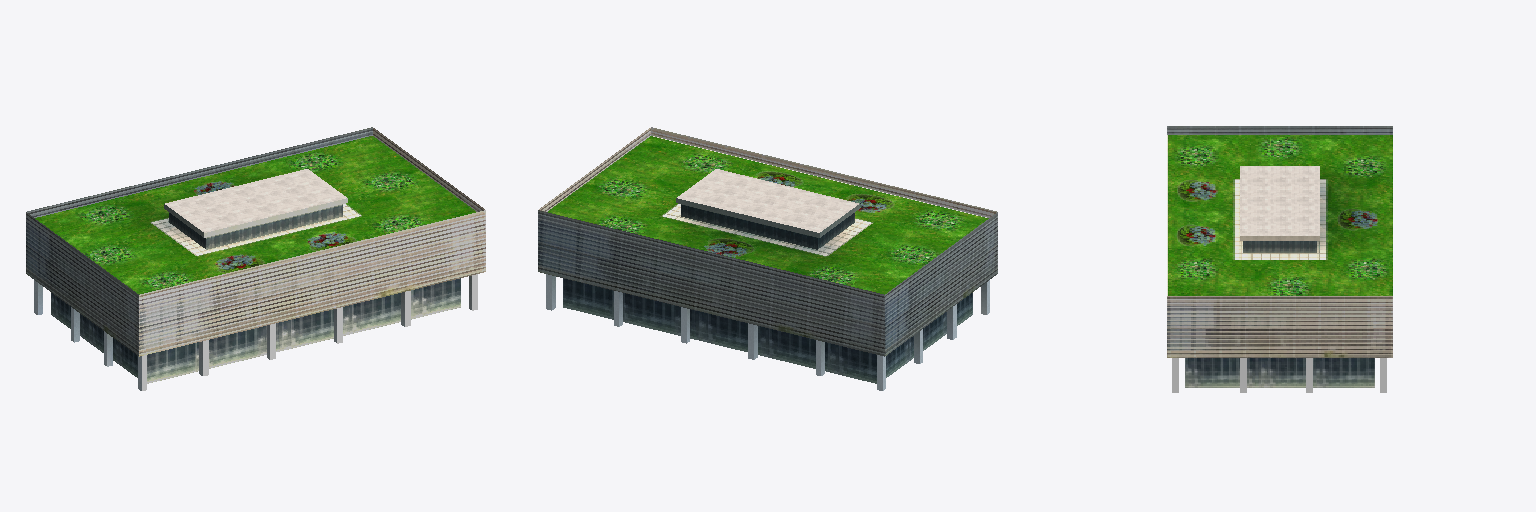
The picture shows the model from 3 angles: view 1: azimuth 30°, elevation 25°; view 2: azimuth 150°, elevation 25°; view 3: azimuth 270°, elevation 25°; orthographic projection.
Visible parts, largest first — view 1: 4D2; view 2: 4D2; view 3: 4D2.
Part boxes in pixels (x1,y1,x2,y2): 4D2: (26, 127, 485, 390); 4D2: (538, 127, 997, 390); 4D2: (1167, 126, 1392, 392).
Bounding box in the file's own units: 43.49 × 13.2 × 24.59.
Materials: 1 (1 with a texture image).